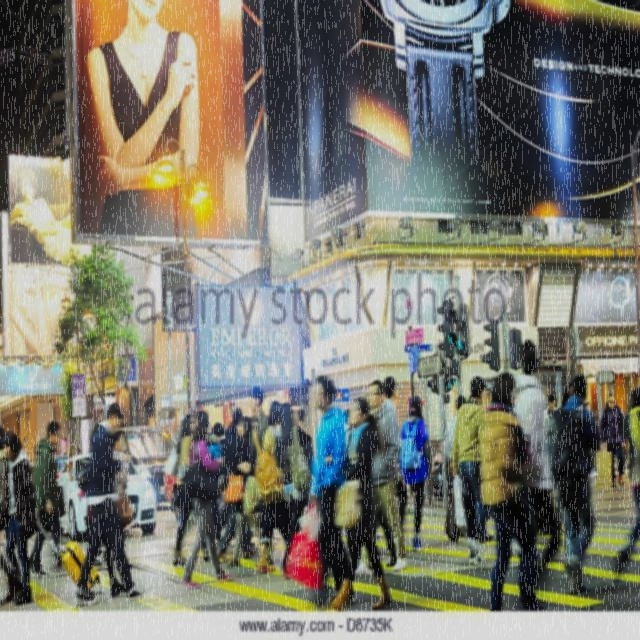pessoa: (195, 383, 407, 574), (85, 0, 203, 238), (478, 370, 549, 627), (7, 156, 83, 369), (323, 394, 394, 612), (73, 398, 144, 606), (507, 336, 561, 596), (546, 372, 602, 596), (75, 416, 140, 607), (308, 376, 355, 604), (179, 416, 236, 591), (361, 378, 410, 578), (254, 398, 302, 576), (449, 374, 488, 568), (1, 429, 40, 607), (392, 394, 433, 554), (172, 414, 213, 568), (29, 422, 68, 580), (224, 414, 258, 570), (244, 383, 272, 557), (599, 390, 626, 490), (625, 384, 639, 558), (444, 393, 468, 487), (0, 422, 10, 606), (577, 398, 598, 479), (382, 373, 400, 408), (540, 393, 559, 425)
